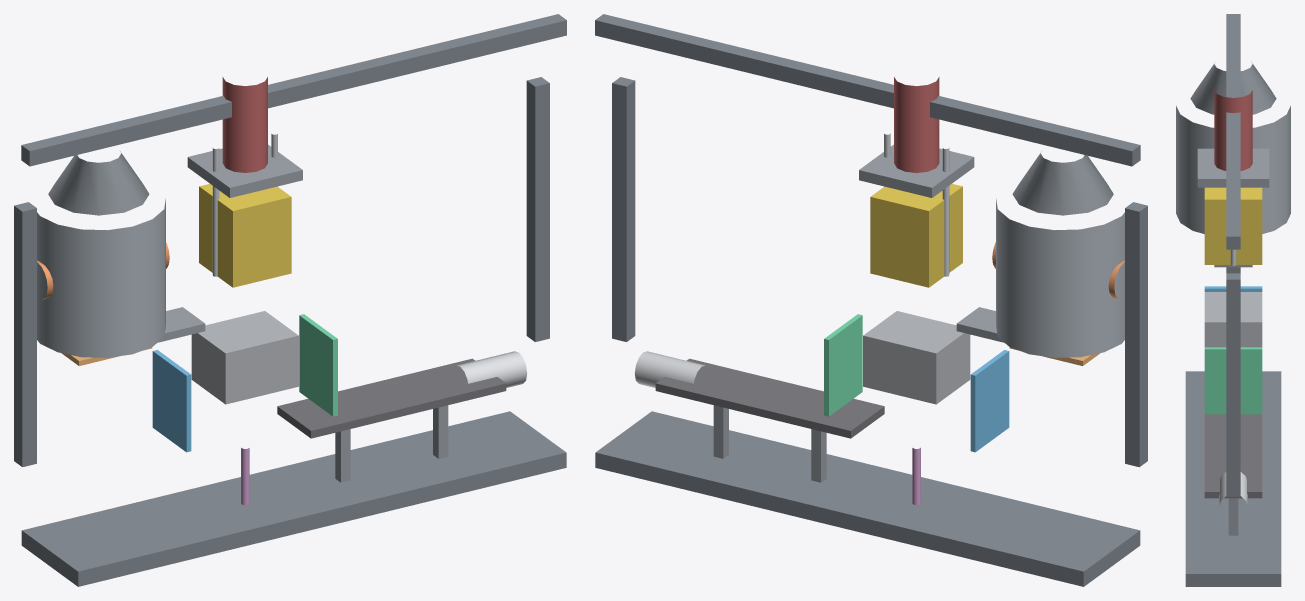
The model's file is molding-machine.glb.
3 renders of one model, left to right at view 1: azimuth 30°, elevation 25°; view 2: azimuth 150°, elevation 25°; view 3: azimuth 270°, elevation 25°, orthographic. The views are drawn at different scales.
Parts seen in each view (by area): view 1: Frame, MixerHousing, FrameTop, MoldCavity, Comp_PunchAssembly, Comp_ConvBelt, FrameRight, FrameLeft, Hopper, HydCyl_Barrel, Comp_PasoA, Comp_PasoB (+6 smaller); view 2: Frame, MixerHousing, FrameTop, MoldCavity, Comp_PunchAssembly, Comp_ConvBelt, FrameRight, FrameLeft, Hopper, HydCyl_Barrel, Comp_PasoA, Comp_PasoB (+6 smaller); view 3: Frame, MixerHousing, Comp_PunchAssembly, Comp_ConvBelt, FrameRight, FrameTop, Comp_PasoB, MoldCavity, HydCyl_Barrel, Hopper, HydMountPlate, ConvLegRight (+2 smaller).
Boxes of the visible parts, x1,y1,x2,y2 form: Frame: (21, 411, 566, 586); MixerHousing: (37, 199, 165, 357); FrameTop: (21, 14, 566, 166); MoldCavity: (191, 311, 298, 404); Comp_PunchAssembly: (199, 184, 291, 287); Comp_ConvBelt: (277, 358, 506, 438); FrameRight: (526, 77, 549, 341); FrameLeft: (14, 202, 36, 467); Hopper: (48, 151, 149, 215); HydCyl_Barrel: (222, 77, 267, 172); Comp_PasoA: (152, 350, 191, 452); Comp_PasoB: (299, 314, 337, 416); Frame: (595, 411, 1140, 586); MixerHousing: (996, 199, 1124, 357); FrameTop: (595, 14, 1140, 166); MoldCavity: (863, 311, 970, 404); Comp_PunchAssembly: (870, 184, 962, 287); Comp_ConvBelt: (655, 358, 884, 438); FrameRight: (612, 77, 635, 341); FrameLeft: (1125, 202, 1147, 467); Hopper: (1012, 151, 1113, 215); HydCyl_Barrel: (894, 77, 939, 172); Comp_PasoA: (970, 350, 1009, 452); Comp_PasoB: (824, 314, 862, 416); Frame: (1185, 371, 1281, 586); MixerHousing: (1176, 105, 1290, 233); Comp_PunchAssembly: (1204, 187, 1262, 264); Comp_ConvBelt: (1204, 414, 1262, 498); FrameRight: (1226, 273, 1240, 496); FrameTop: (1226, 14, 1240, 249); Comp_PasoB: (1204, 347, 1262, 414); MoldCavity: (1204, 292, 1262, 347); HydCyl_Barrel: (1214, 90, 1252, 170); Hopper: (1190, 63, 1276, 114); HydMountPlate: (1197, 148, 1269, 187); ConvLegRight: (1228, 498, 1238, 535).
Size of the model in its own units: 11.15 by 8.75 by 2.4.
